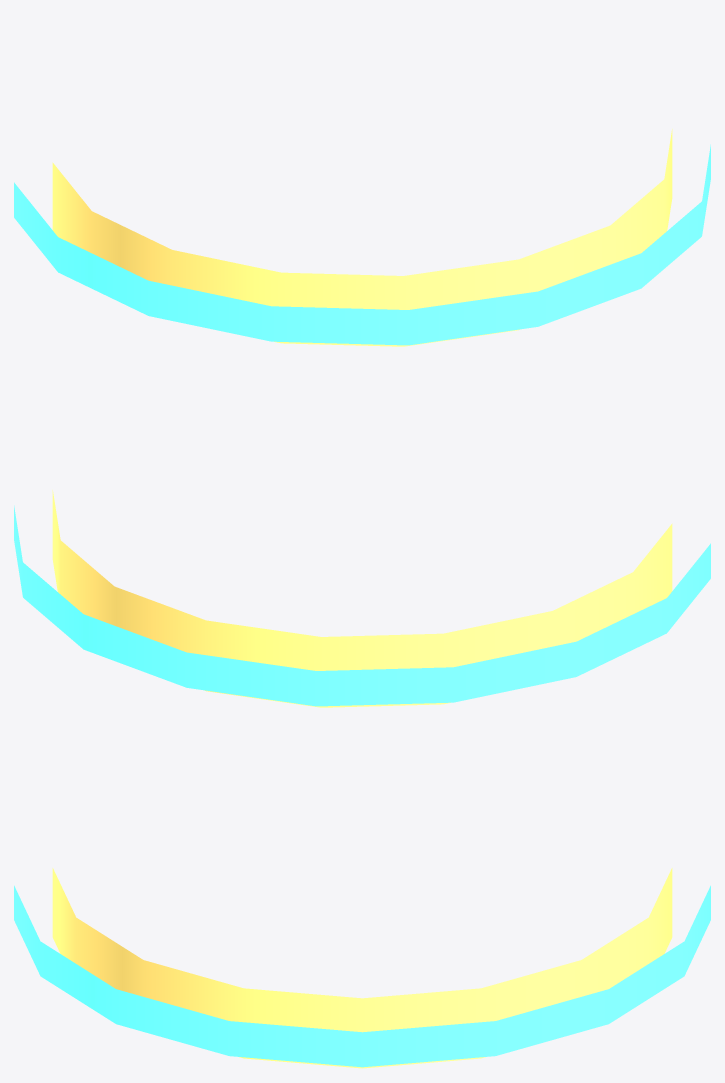
Rendered from sol.glb.
The picture shows the model from 3 angles, top to bottom: view 1: azimuth 30°, elevation 25°; view 2: azimuth 150°, elevation 25°; view 3: azimuth 270°, elevation 25°; orthographic projection.
Parts seen in each view (by area): view 1: sol; view 2: sol; view 3: sol.
Part boxes in pixels (x1,y1,x2,y2): sol: [14, 129, 710, 346]; sol: [14, 490, 710, 707]; sol: [14, 868, 710, 1068].
Bounding box in the file's own units: 0.72 × 0.08 × 0.72.
